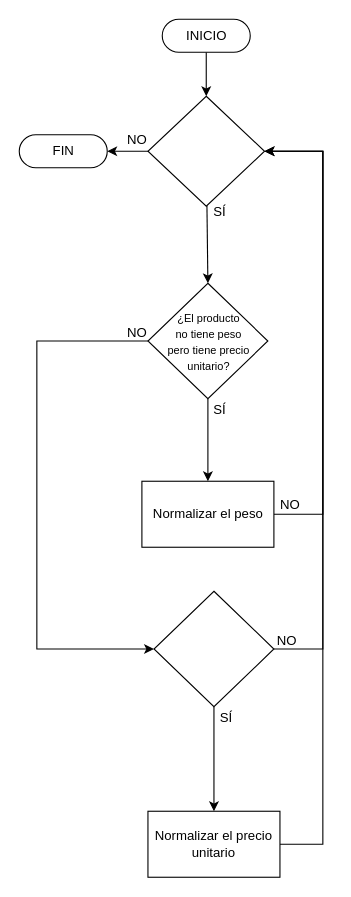
Image size: 351x897. Some labels were removed from this diagram. Here are the shapes that lost their labels. From the top down, the centre of each, then its label:
(x=206, y=150): ¿Quedan productos?
(x=213, y=648): ¿El producto tiene peso pero no tiene precio unitario?
